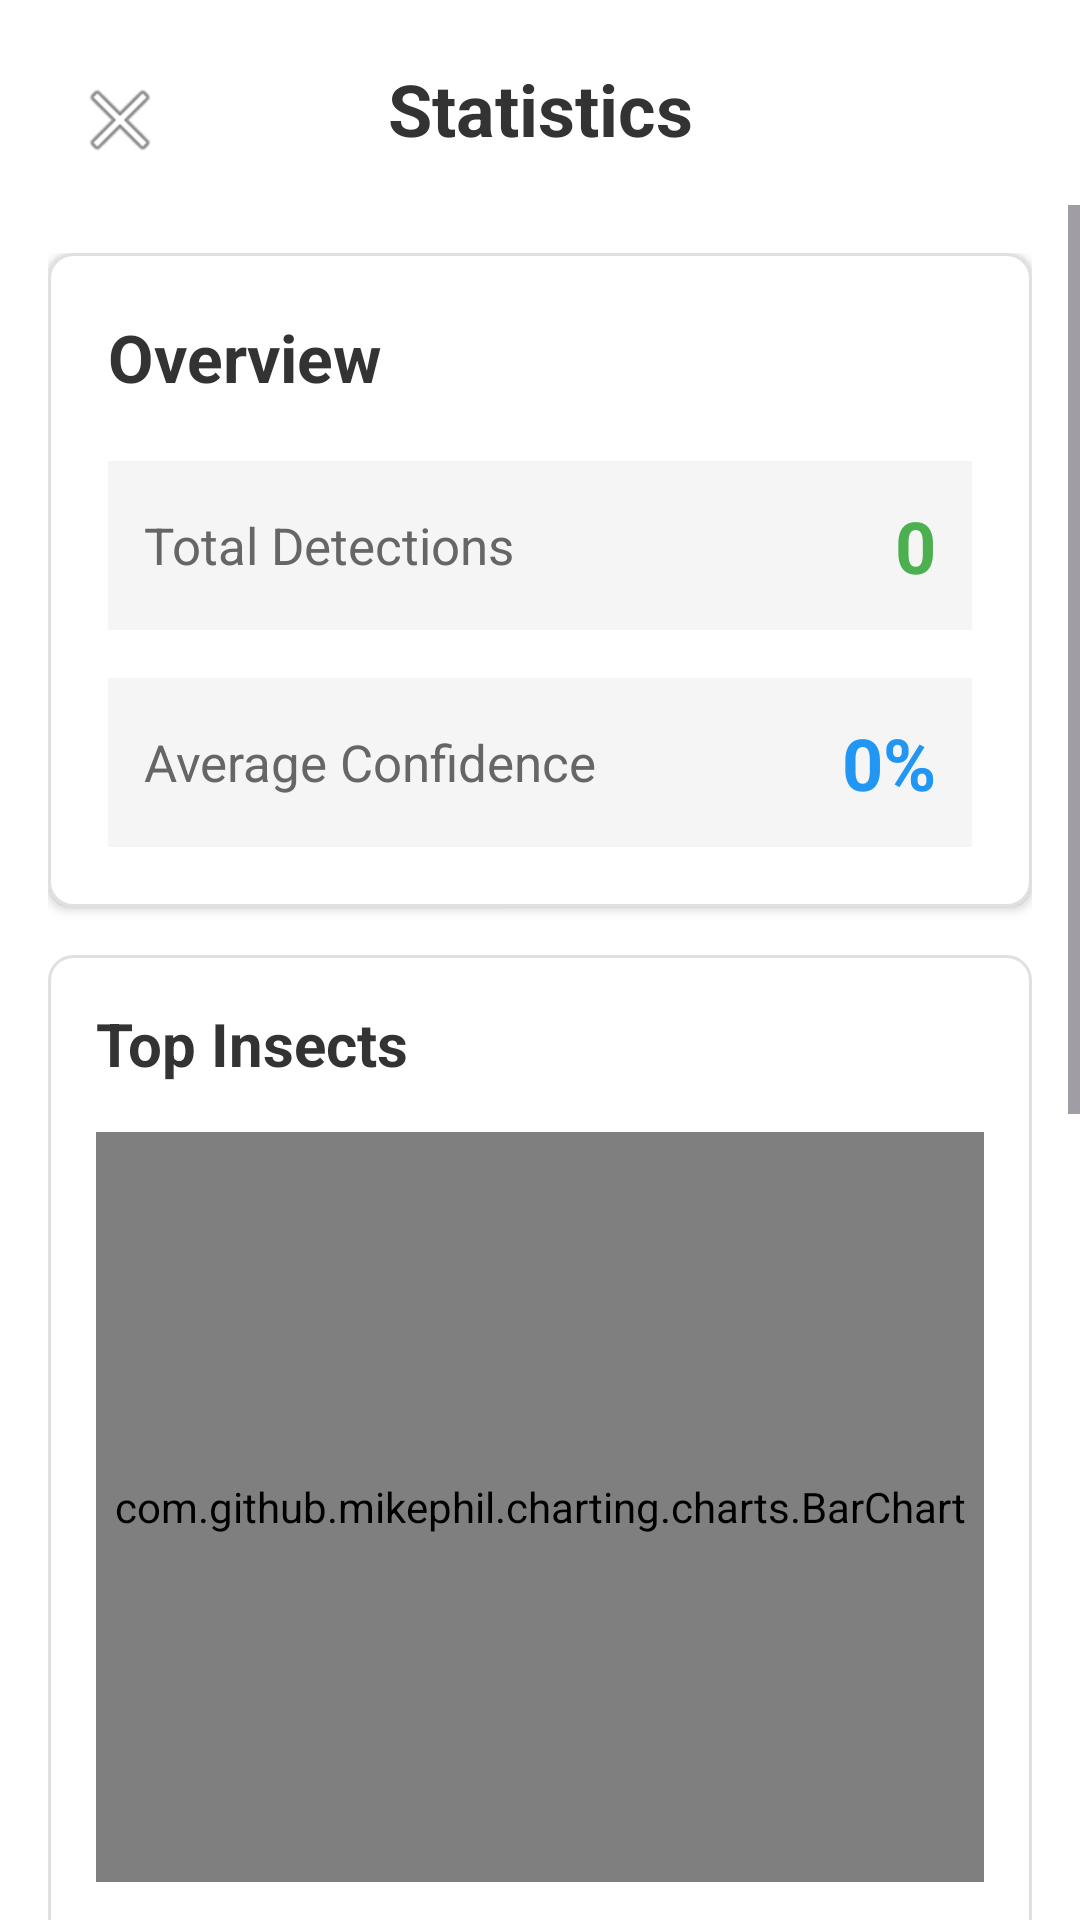

Screen size 1080*1920. Icon name, then its center in pixels as (x,y):
Back: (120,120)
